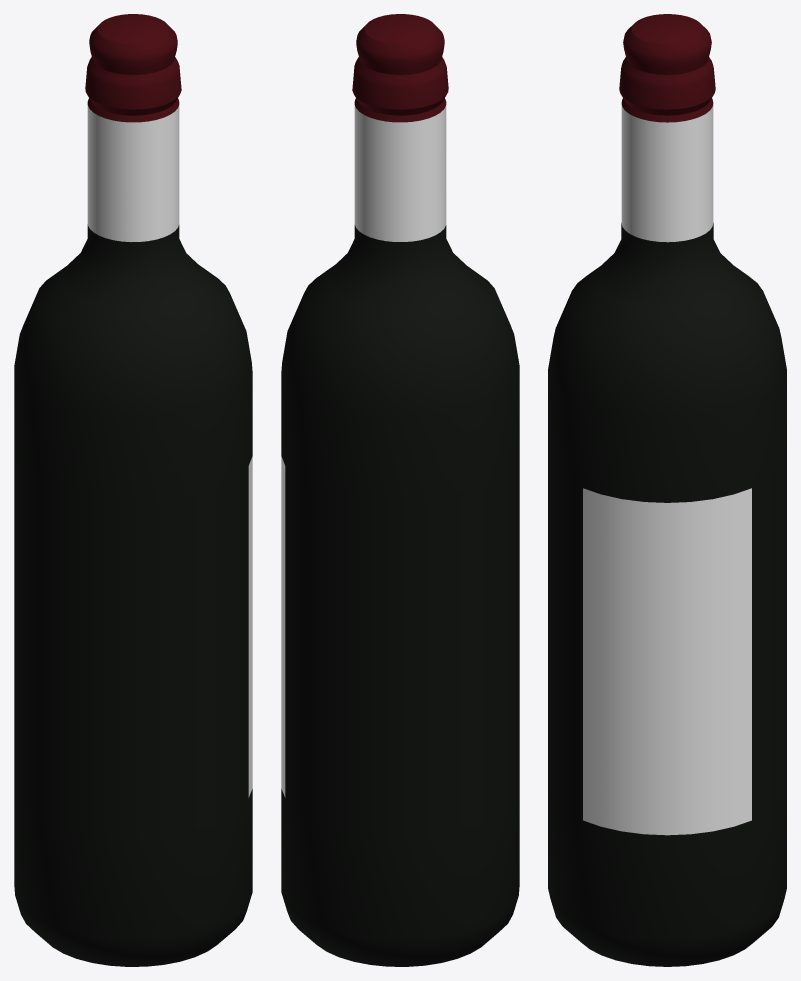
Rendered from wine2.glb.
3 views of the same model, side by side, from view 1: azimuth 30°, elevation 25°; view 2: azimuth 150°, elevation 25°; view 3: azimuth 270°, elevation 25° (orthographic).
Parts seen in each view (by area): view 1: Circle.002; view 2: Circle.002; view 3: Circle.002.
Part boxes in pixels (box(x1,y1,x2,y2)): Circle.002: box(14, 14, 252, 966); Circle.002: box(281, 14, 519, 966); Circle.002: box(548, 14, 786, 966).
Bounding box in the file's own units: 1.12 × 4.68 × 1.12.
